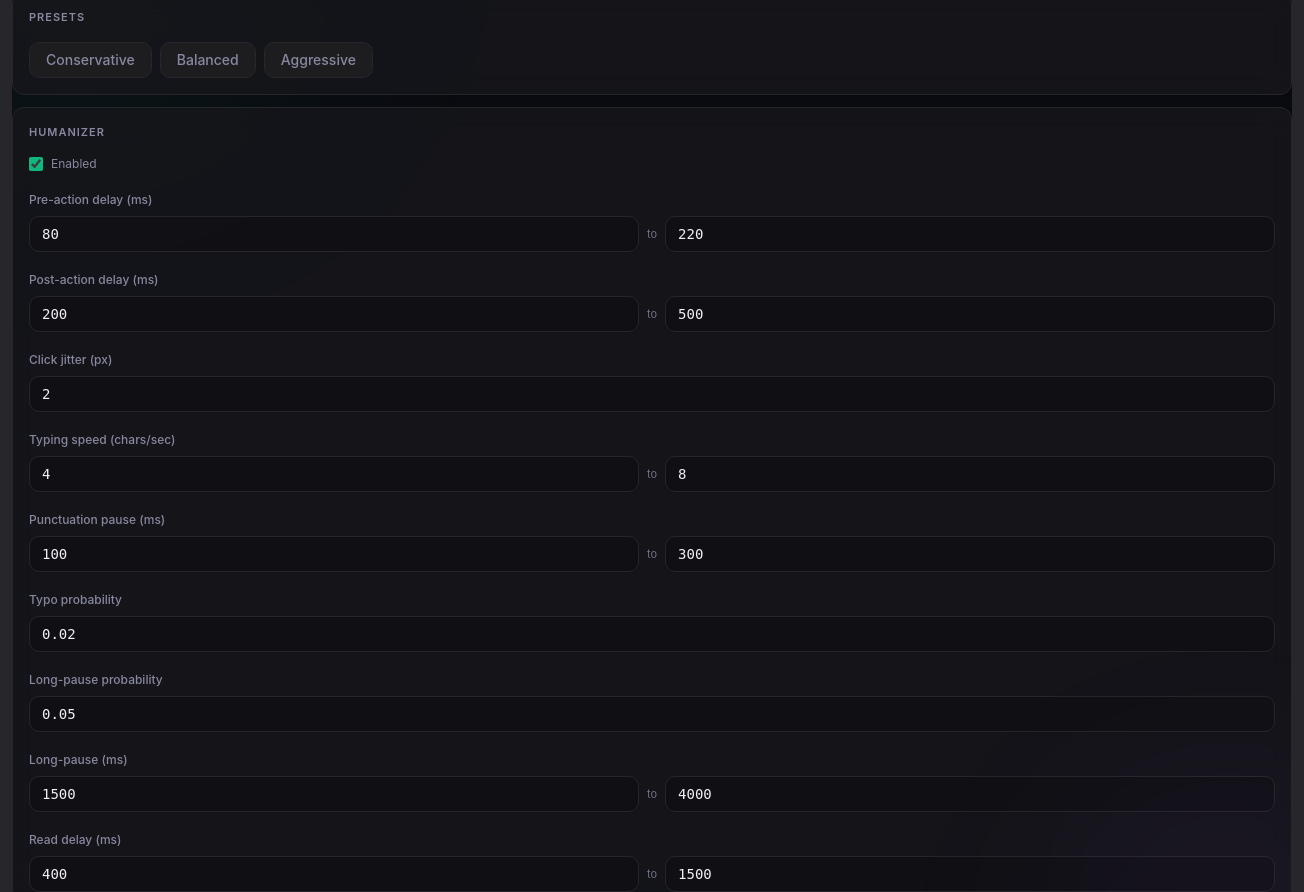
Test: AntiDetectionSettings — presets & validation › flags an inverted range with an inline error and disables Save
Replace the text in the number field with test id "hum-pre-min" with "500" at (334, 234), box [29,216,639,252]
(page scrolled)
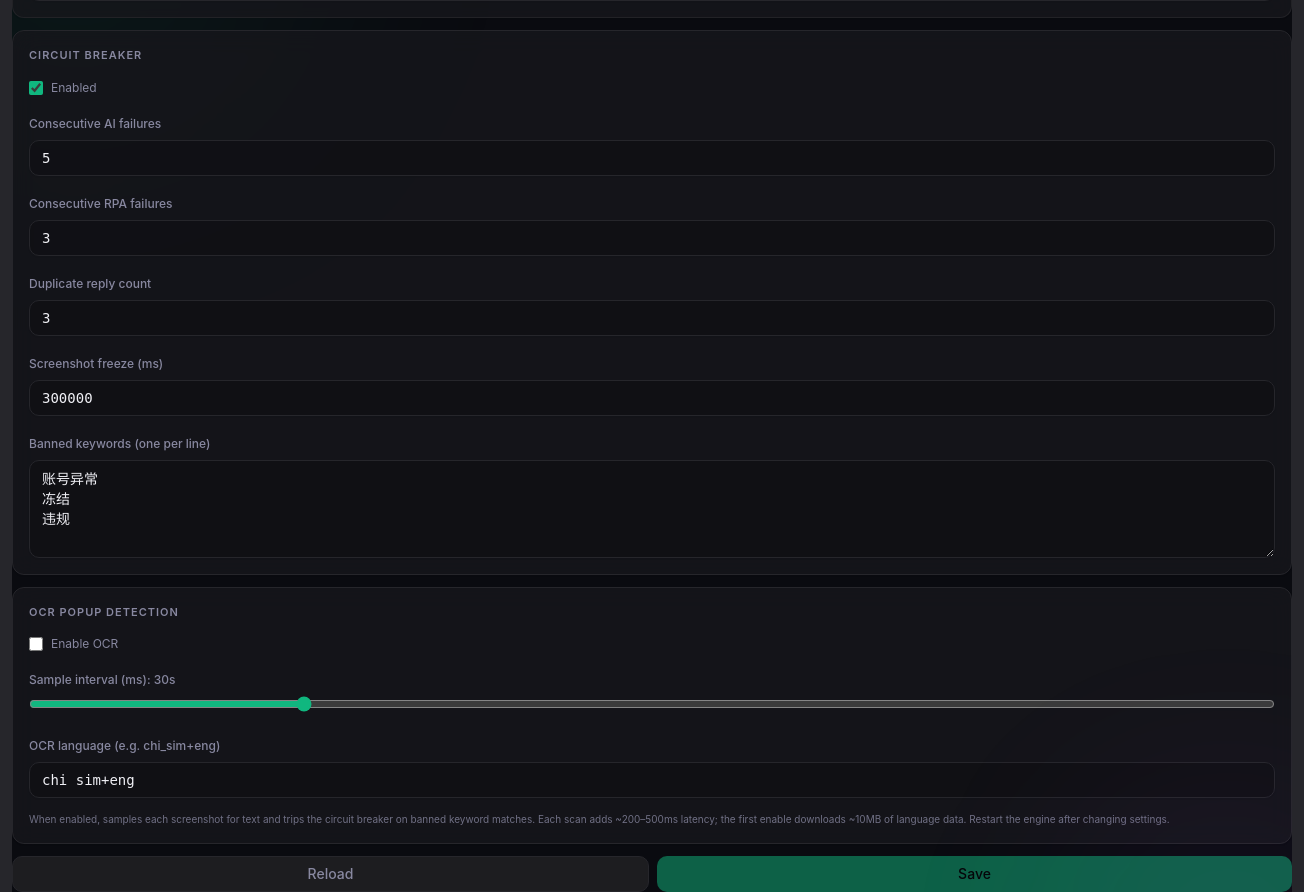
Now the button with test id "policy-save" is disabled, box [657,856,1292,891]
